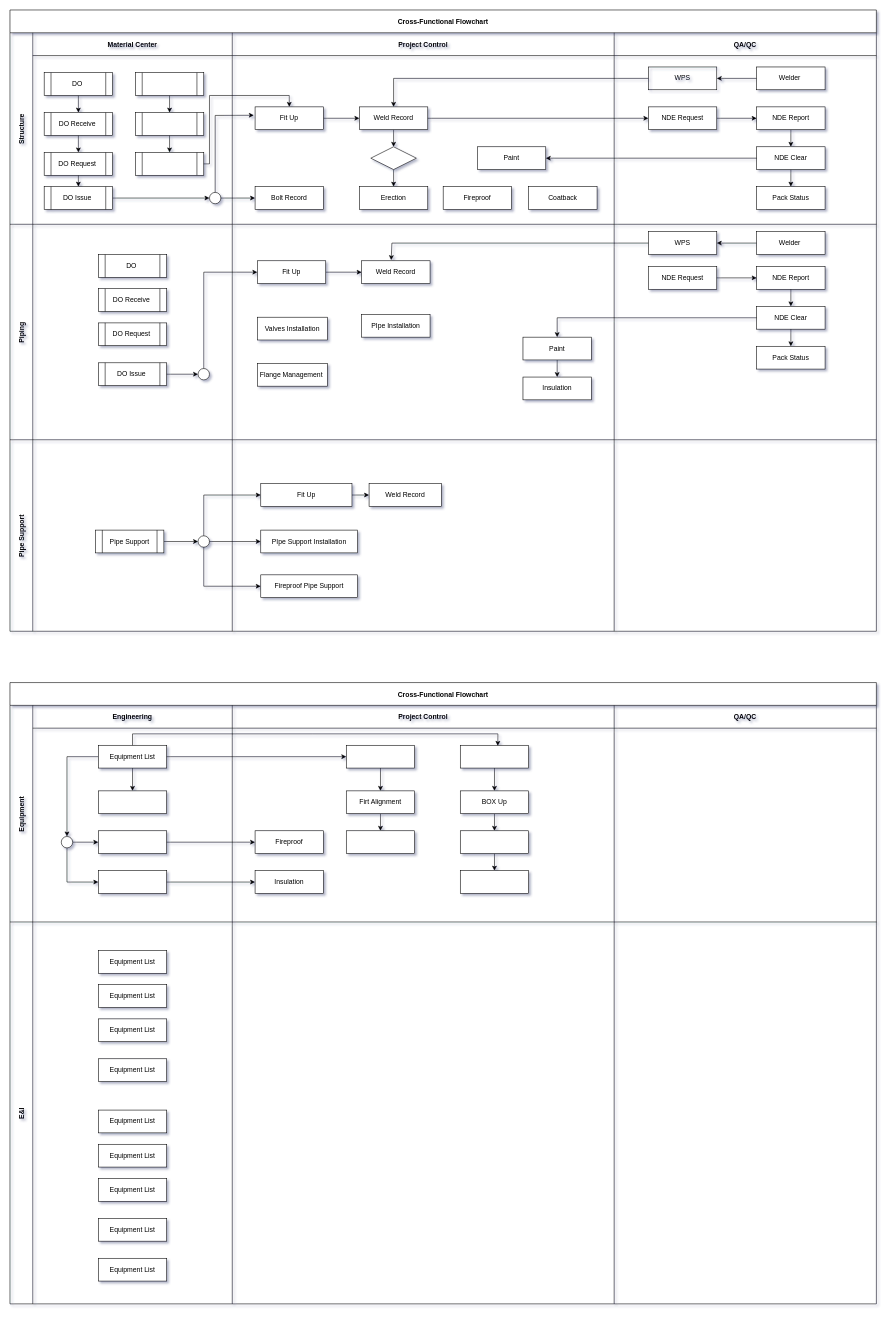
Image size: 890x1317. Some labels were removed from this diagram. Each missing label, with the box of its shape:
BOM Fireproof: (98, 830, 167, 854)
BOM Insulation: (98, 870, 167, 893)
BOM Material: (98, 790, 167, 814)
Fastening: (460, 830, 529, 854)
Final Alignment: (346, 830, 415, 854)
Final Inspection: (460, 870, 529, 893)
Installation on Base: (346, 745, 415, 768)
Internal: (460, 745, 529, 768)
Material Issue: (135, 152, 204, 175)
Material Receive: (135, 72, 204, 95)
Material Request: (135, 112, 204, 135)
